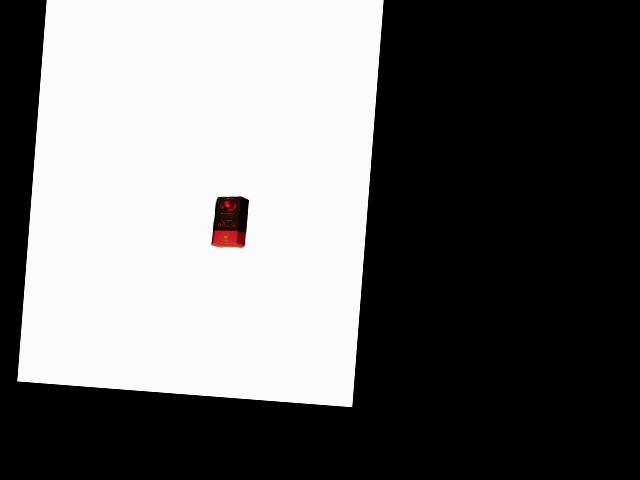chocolate: (210, 189, 250, 250)
